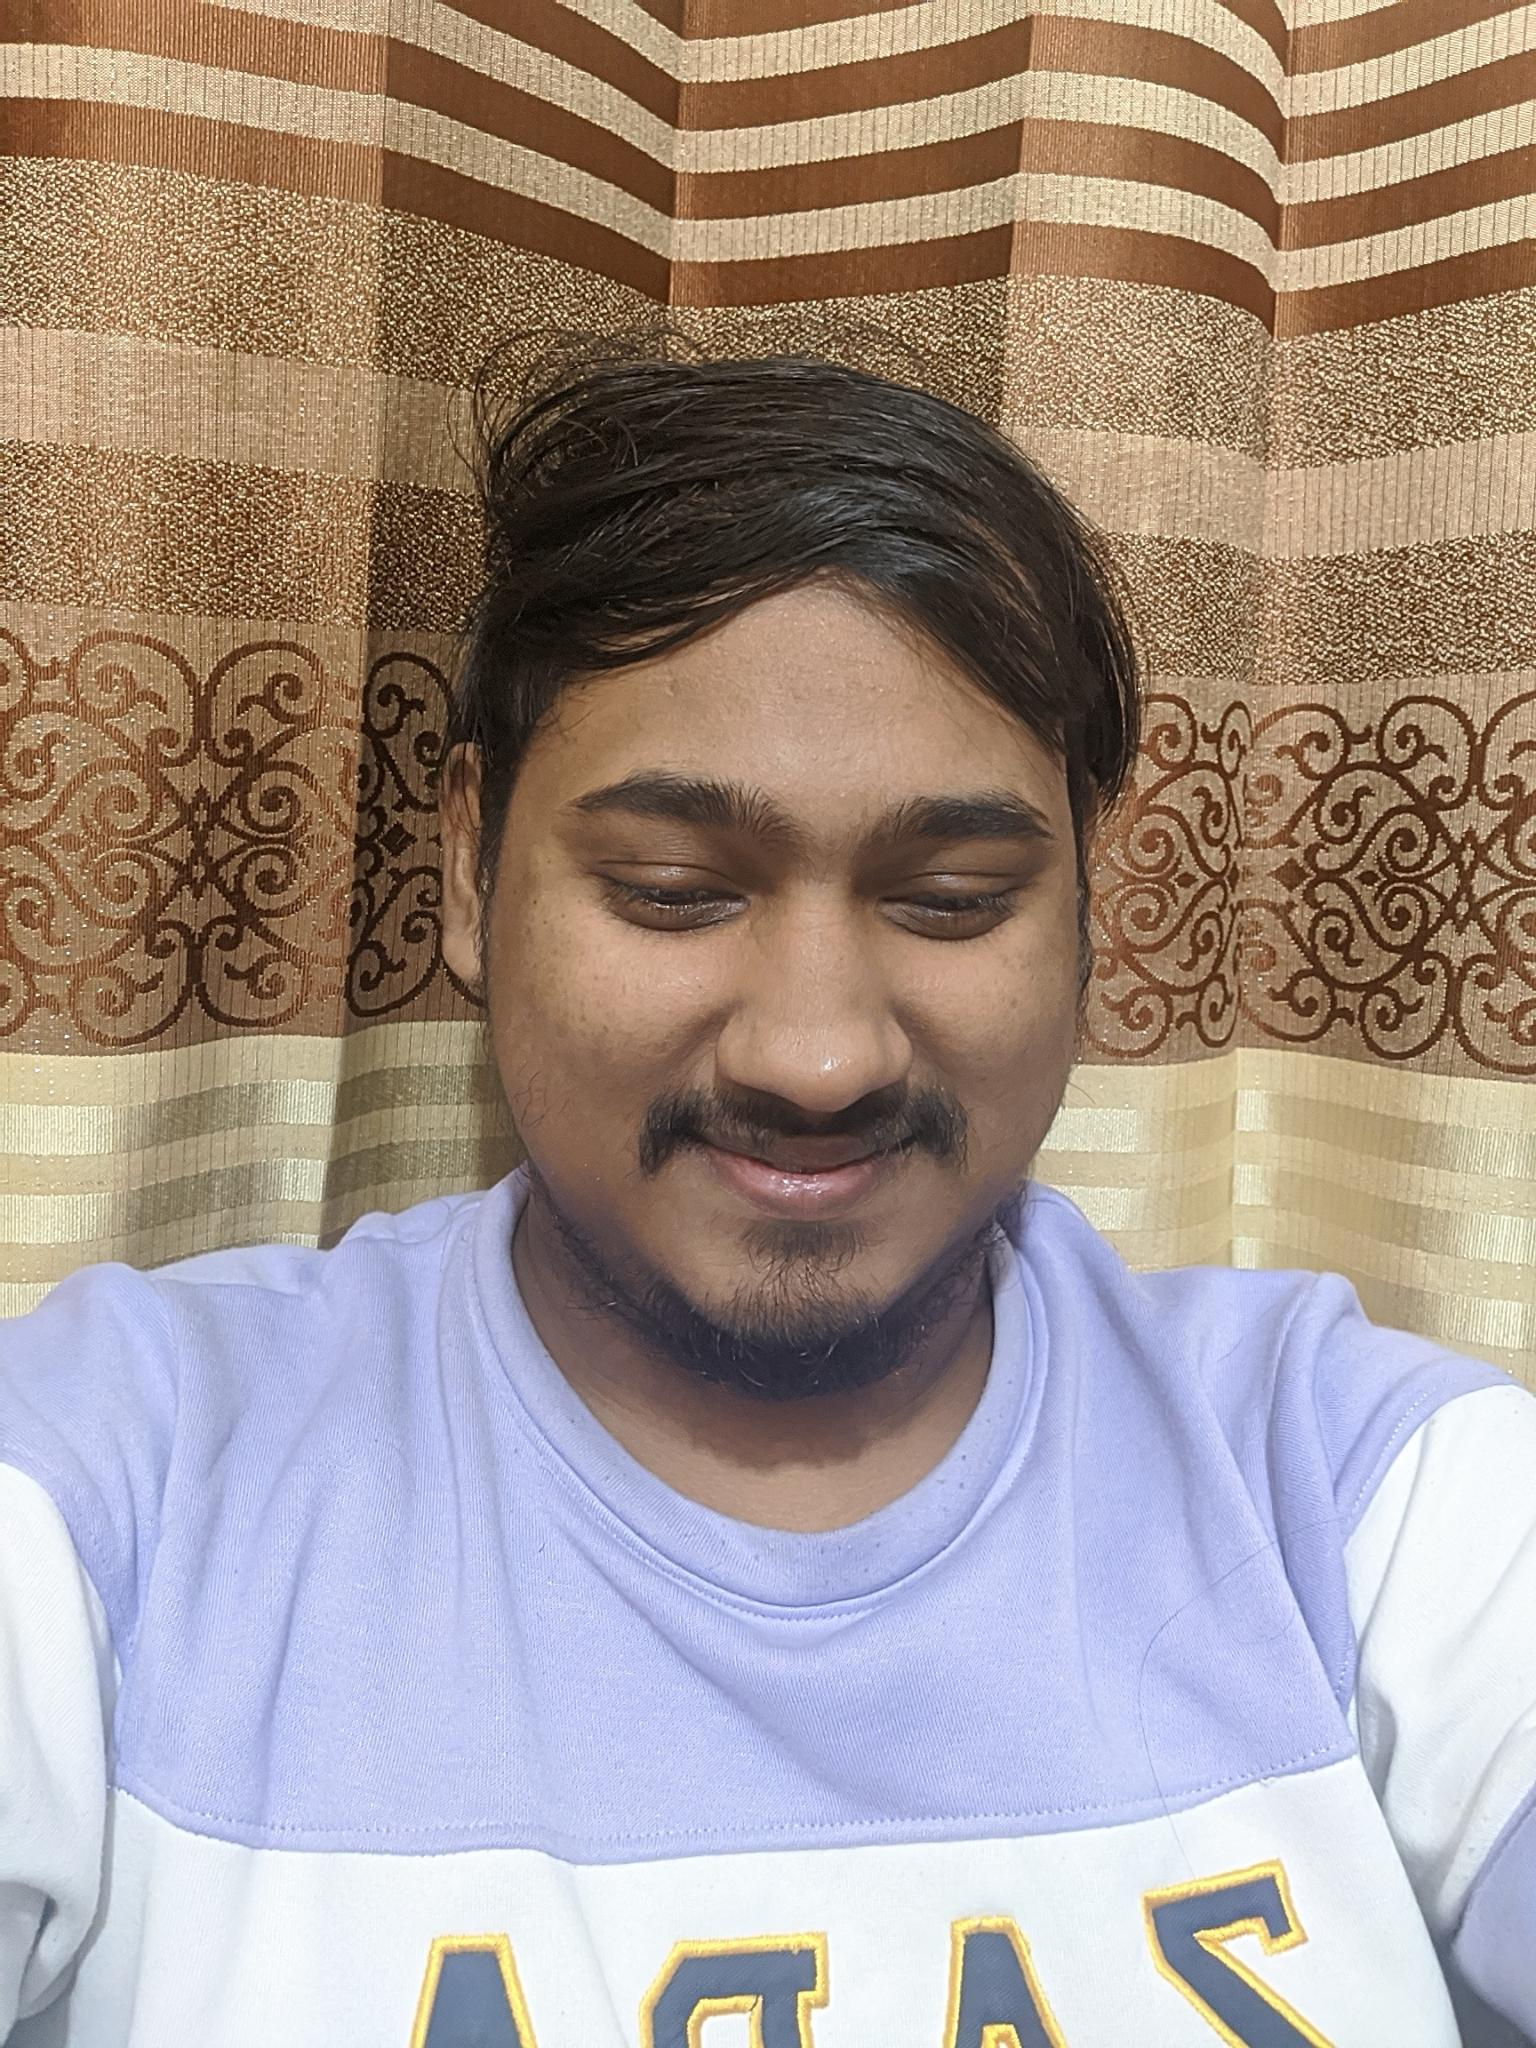Happy: (490, 672, 1087, 1329)
